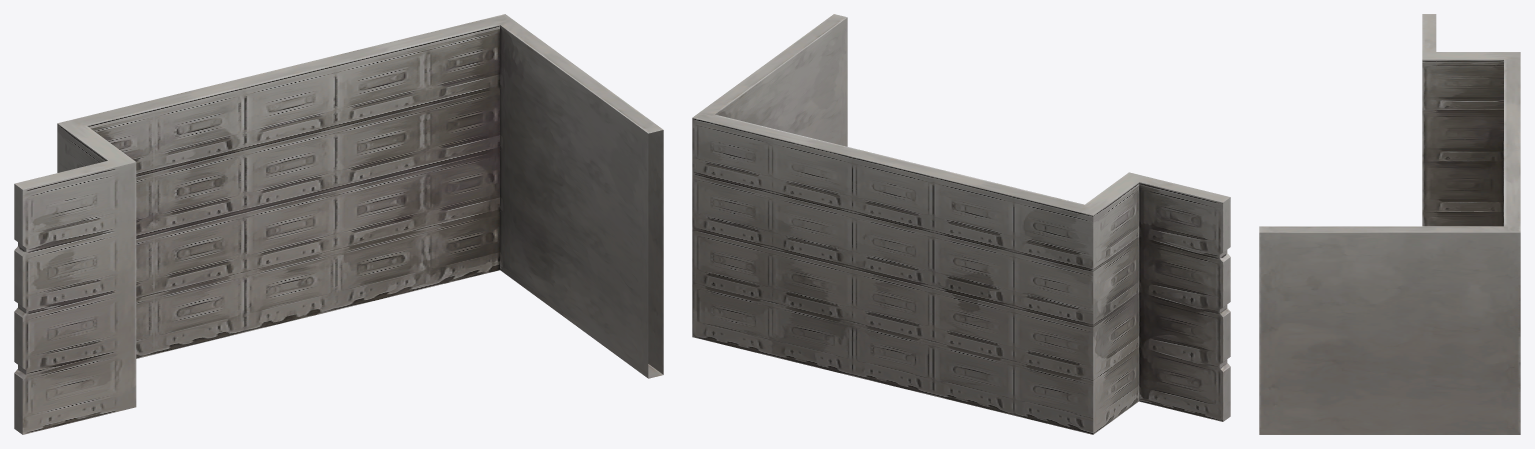
The model's file is sets.fbx.
3 views of the same model, side by side, from view 1: azimuth 30°, elevation 25°; view 2: azimuth 150°, elevation 25°; view 3: azimuth 270°, elevation 25° (orthographic). The views are drawn at different scales.
Visible parts, largest first — view 1: cassetera_recinto; view 2: cassetera_recinto; view 3: cassetera_recinto.
Part boxes in pixels (x1,y1,x2,y2): cassetera_recinto: (14,14,663,434); cassetera_recinto: (692,14,1230,434); cassetera_recinto: (1259,14,1520,434).
Bounding box in the file's own units: 899 × 388 × 455.
